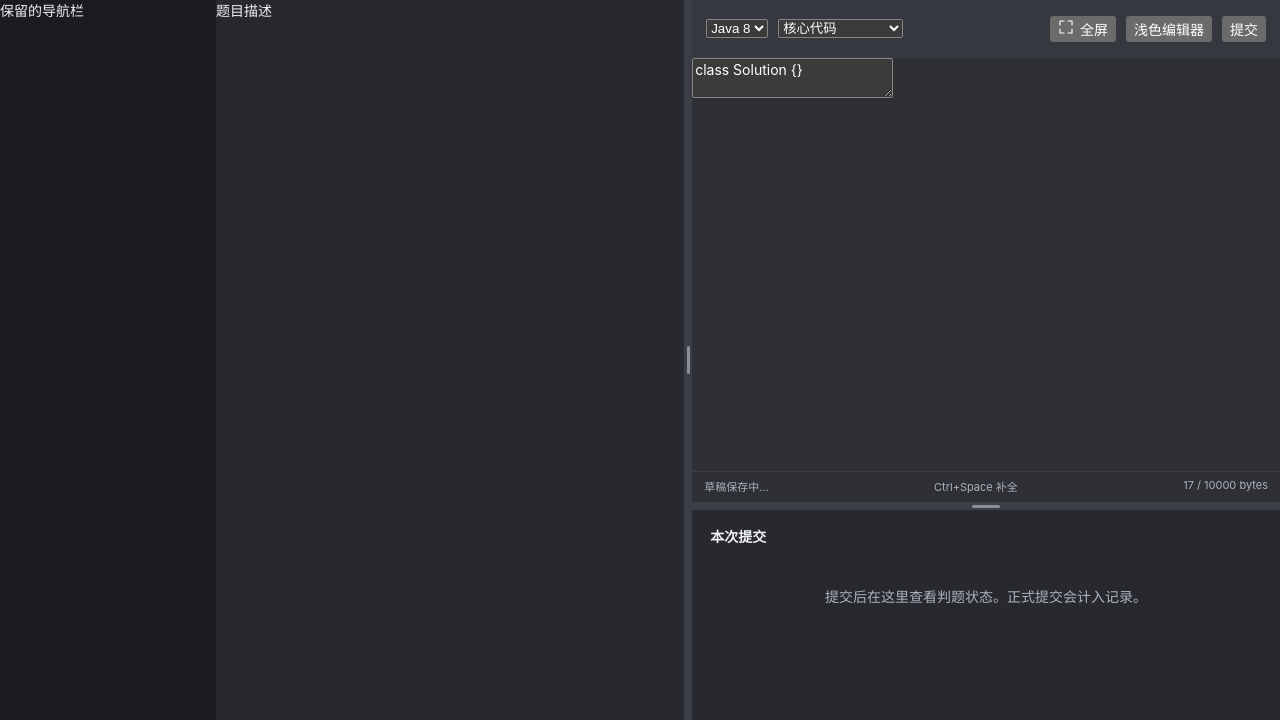
Test: workspace editor expansion and mode selection › uses a dropdown that saves the outgoing public draft and keeps the expanded view during mode switches
Replace the text in the text box named "代码编辑器" with "my function draft": (793, 78) top-left (692, 58), bottom-right (893, 98)
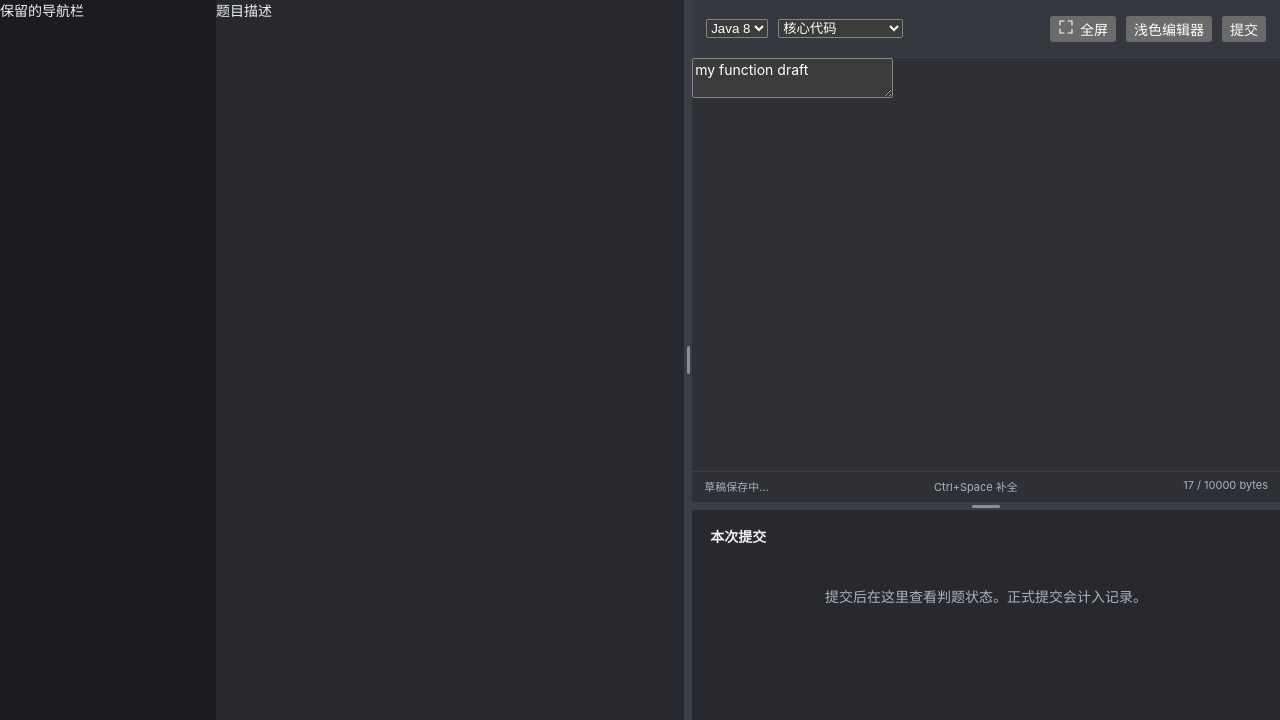
Click the button with aria-label "编辑器全屏": (1083, 28) top-left (1050, 16), bottom-right (1116, 42)
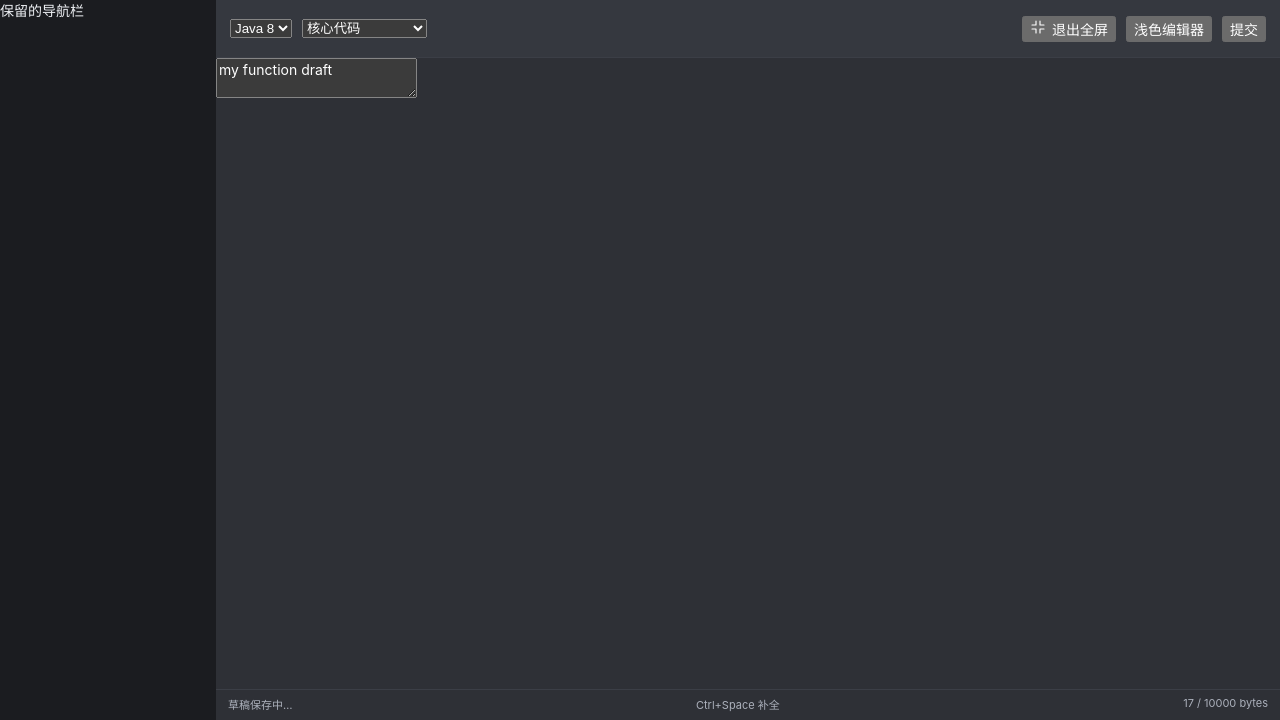
Select "ACM" in the dropdown named "判题模式": (364, 28) top-left (302, 19), bottom-right (427, 38)
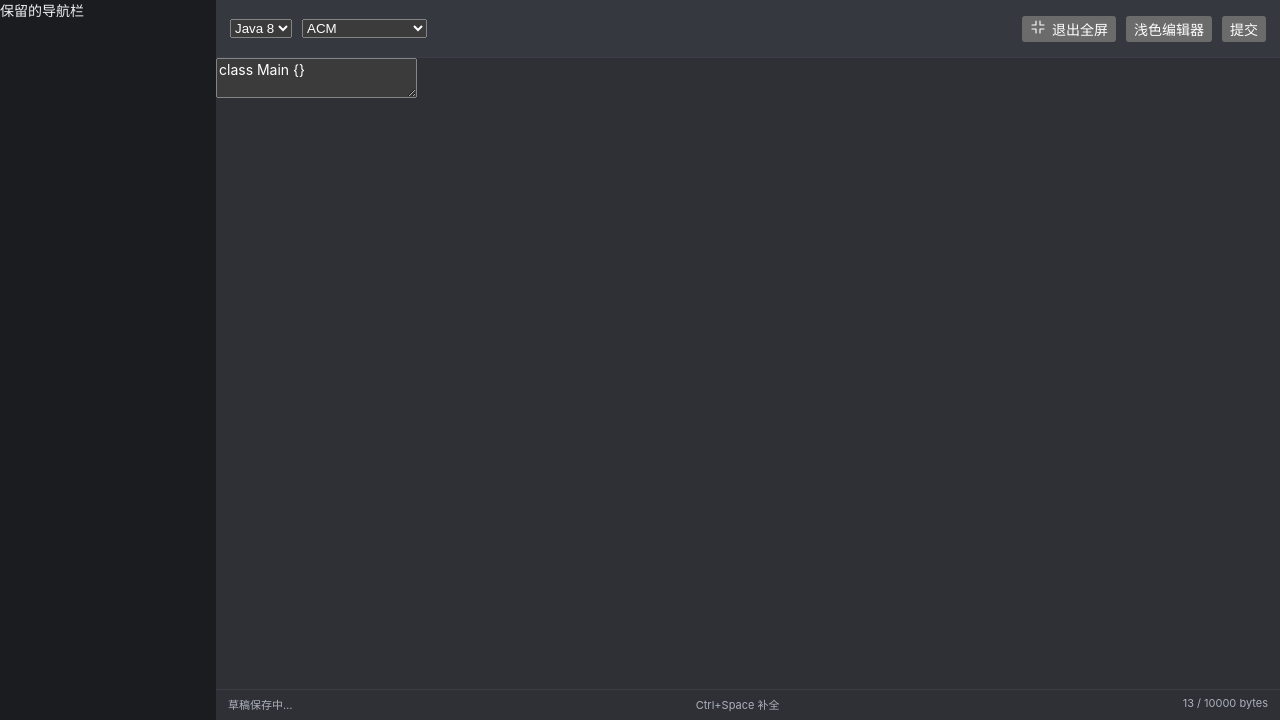
Result: the text box named "代码编辑器" holds "class Main {}" at top-left (216, 58), bottom-right (417, 98)
